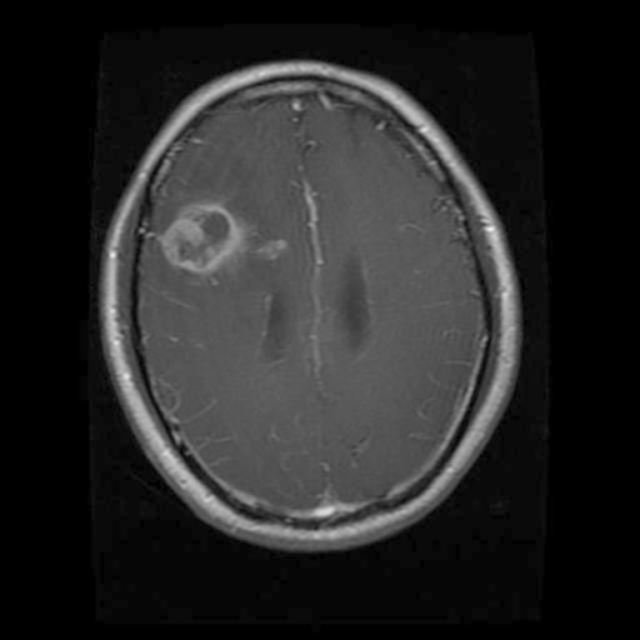pituitary tumor: (160, 206, 239, 274)
